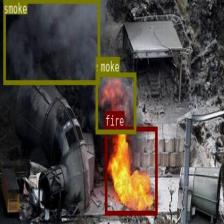fire: (104, 127, 156, 214)
smoke: (3, 0, 99, 83), (95, 72, 136, 132)
